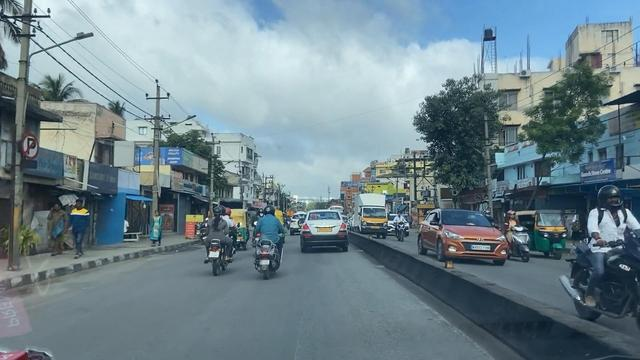LMV: (248, 198, 275, 281), (301, 209, 349, 252), (207, 202, 228, 268)
